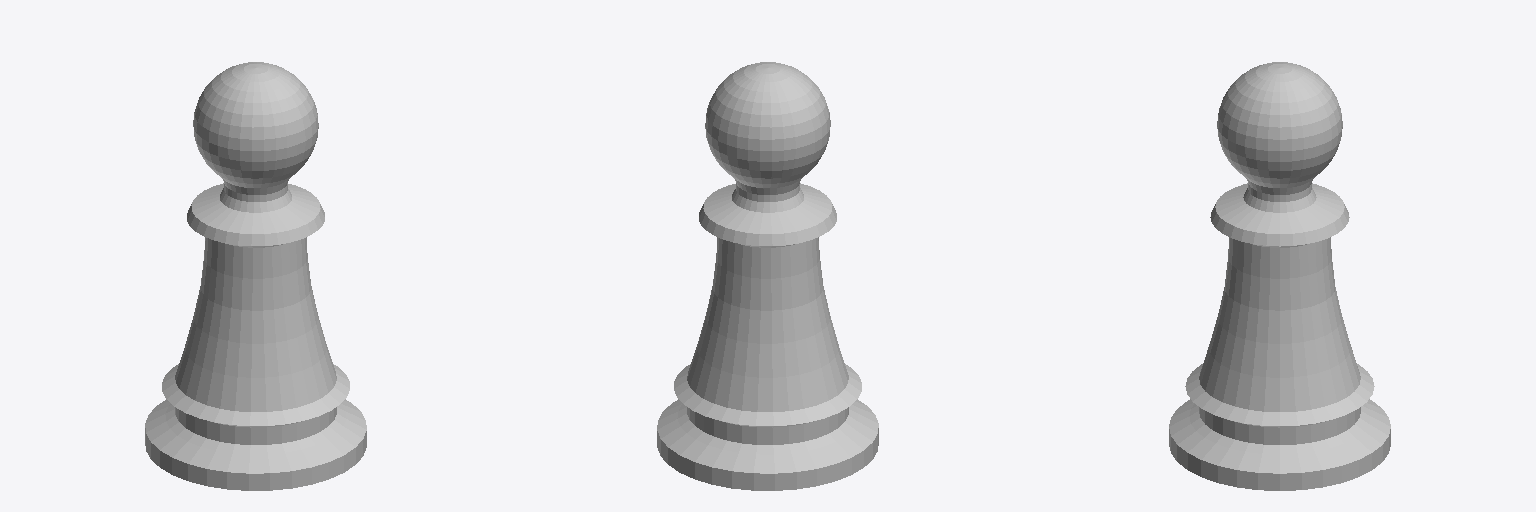
Rendered from chess_pawn.obj.
The picture shows the model from 3 angles: view 1: azimuth 30°, elevation 25°; view 2: azimuth 150°, elevation 25°; view 3: azimuth 270°, elevation 25°; orthographic projection.
Visible parts, largest first — view 1: Cylinder; view 2: Cylinder; view 3: Cylinder.
Boxes of the visible parts, x1,y1,x2,y2 form: Cylinder: [145, 62, 366, 490]; Cylinder: [657, 62, 878, 490]; Cylinder: [1169, 62, 1390, 490].
Bounding box in the file's own units: 2 × 3.74 × 2.